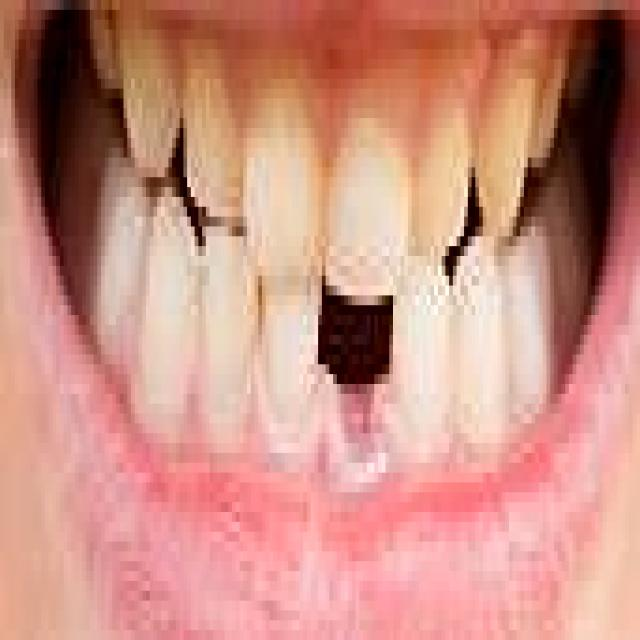hypodontia: (318, 276, 389, 482)
